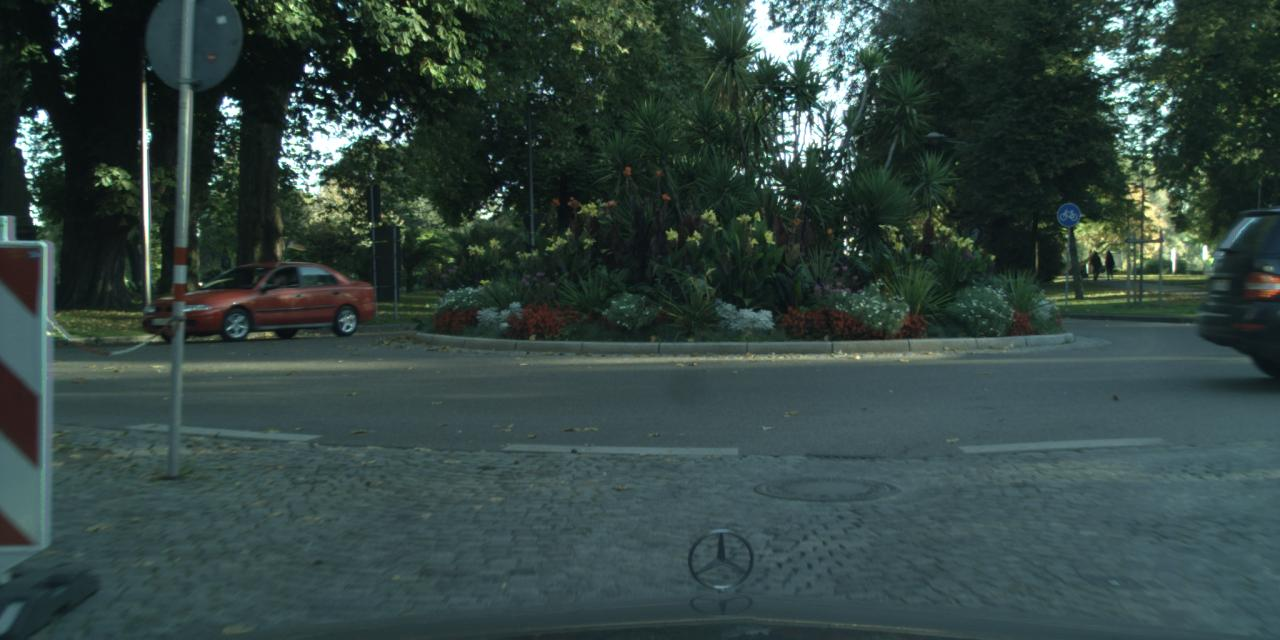ped: (1088, 250, 1100, 278), (1103, 250, 1114, 278)
